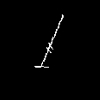treble_crochet: (35, 15, 62, 66)
